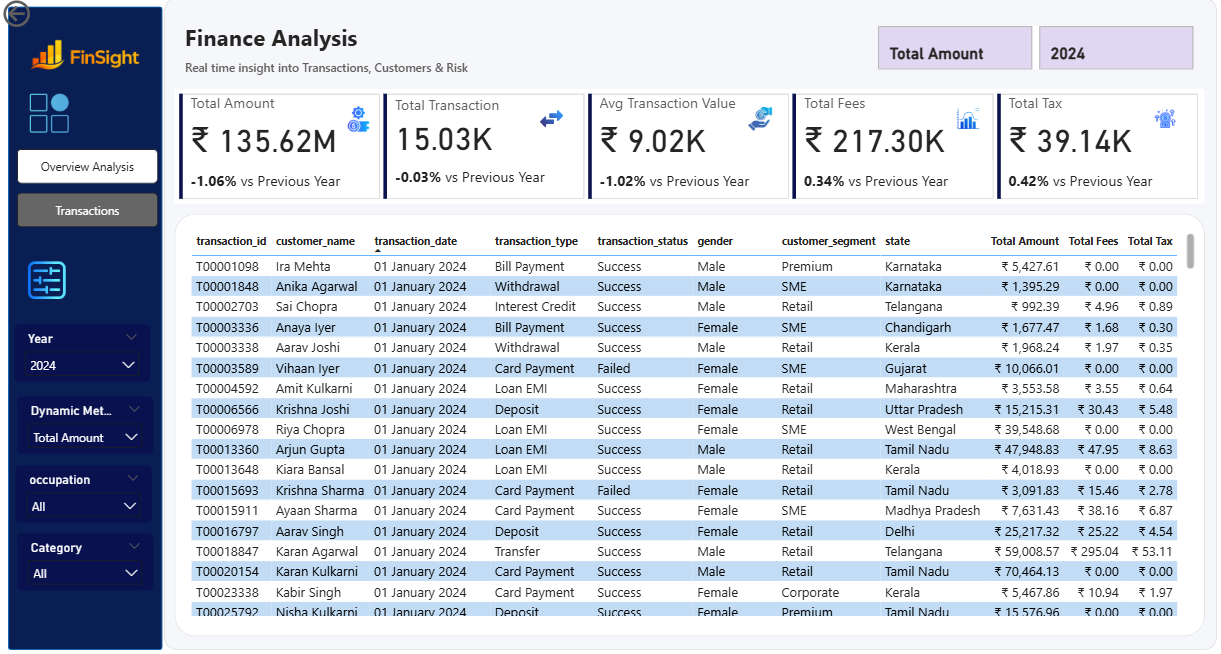

The dashboard page shown, as its layout file describes it:
{"tool":"powerbi","page":{"name":"Transactions","canvas":[1390,750],"ordinal":1},"visuals":[{"type":"shape","box":[10.2,11.9,174.5,726.9],"z":0},{"type":"shape","box":[186.4,1.7,1189.4,737],"z":1000},{"type":"image","box":[25.4,30.5,145.7,72.9],"z":2000},{"type":"shape","box":[198.2,245.7,1164,477.8],"z":3000},{"type":"cardVisual","fields":{"Data":["finance_transactions.Dashboard Title"]},"box":[199.1,12.3,373.5,90.3],"z":4000},{"type":"cardVisual","fields":{"Data":["finance_transactions.Total Amount","finance_transactions.Total_Transaction","finance_transactions.Avg Transaction Value","finance_transactions.Total Fees","finance_transactions.Total Tax"]},"box":[199.1,104.7,1163.6,129.3],"z":5000},{"type":"image","box":[386.3,118.6,39,40.7],"z":6000},{"type":"image","box":[604.9,118.6,38,40.7],"z":7000},{"type":"image","box":[840.4,118.6,38,40.7],"z":8000},{"type":"image","box":[1075.9,118.6,37.3,40.7],"z":9000},{"type":"image","box":[1297.8,118.6,38,40.7],"z":10000},{"type":"cardVisual","fields":{"Data":["finance_transactions.Selected Dynamic Measure","finance_transactions.Selected Year"]},"box":[987.8,28.8,367.7,59.3],"z":11000},{"type":"tableEx","fields":{"Values":["finance_transactions.transaction_id","customers.customer_name","finance_transactions.transaction_date","finance_transactions.transaction_type","finance_transactions.transaction_status","customers.gender","customers.customer_segment","customers.state","finance_transactions.Total Amount","finance_transactions.Total Fees","finance_transactions.Total Tax"]},"box":[211.8,262.6,1143.7,442.2],"z":12000},{"type":"actionButton","box":[0,0,100,40],"z":13000},{"type":"slicer","fields":{"Values":["Calender Table.year"]},"box":[16.9,371.1,154.2,64.4],"z":14000},{"type":"slicer","fields":{"Values":["Dynamic Metric.Dynamic Metric"]},"box":[20.3,452.4,154.2,64.4],"z":15000},{"type":"slicer","fields":{"Values":["customers.occupation"]},"box":[18.6,530.3,154.2,64.4],"z":16000},{"type":"slicer","fields":{"Values":["finance_transactions.merchant_category"]},"box":[20.3,606.6,154.2,64.4],"z":17000},{"type":"pageNavigator","box":[20.3,172.8,159.3,89.8],"z":18000},{"type":"image","box":[20.3,291.4,67.8,59.3],"z":19000},{"type":"image","box":[25.4,105,62.7,54.2],"z":20000}]}

Visuals, with their boxes on the page's 1390x750 design canvas (x1, y1, x2, y2). These are canvas units, not pixel positions in the 1221x654 screenshot, which may show the page scaled, cropped or inside an application window:
shape: crop(10, 12, 185, 739)
shape: crop(186, 2, 1376, 739)
image: crop(25, 30, 171, 103)
shape: crop(198, 246, 1362, 724)
cardVisual - finance_transactions.Dashboard Title: crop(199, 12, 573, 103)
cardVisual - finance_transactions.Total Amount x finance_transactions.Total_Transaction: crop(199, 105, 1363, 234)
image: crop(386, 119, 425, 159)
image: crop(605, 119, 643, 159)
image: crop(840, 119, 878, 159)
image: crop(1076, 119, 1113, 159)
image: crop(1298, 119, 1336, 159)
cardVisual - finance_transactions.Selected Dynamic Measure x finance_transactions.Selected Year: crop(988, 29, 1356, 88)
tableEx - finance_transactions.transaction_id x customers.customer_name: crop(212, 263, 1356, 705)
actionButton: crop(0, 0, 100, 40)
slicer - Calender Table.year: crop(17, 371, 171, 436)
slicer - Dynamic Metric.Dynamic Metric: crop(20, 452, 174, 517)
slicer - customers.occupation: crop(19, 530, 173, 595)
slicer - finance_transactions.merchant_category: crop(20, 607, 174, 671)
pageNavigator: crop(20, 173, 180, 263)
image: crop(20, 291, 88, 351)
image: crop(25, 105, 88, 159)
